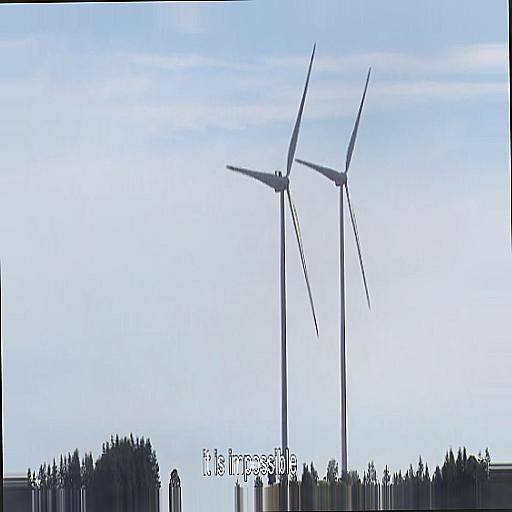wind turbine: (222, 42, 319, 470), (295, 61, 373, 461)
